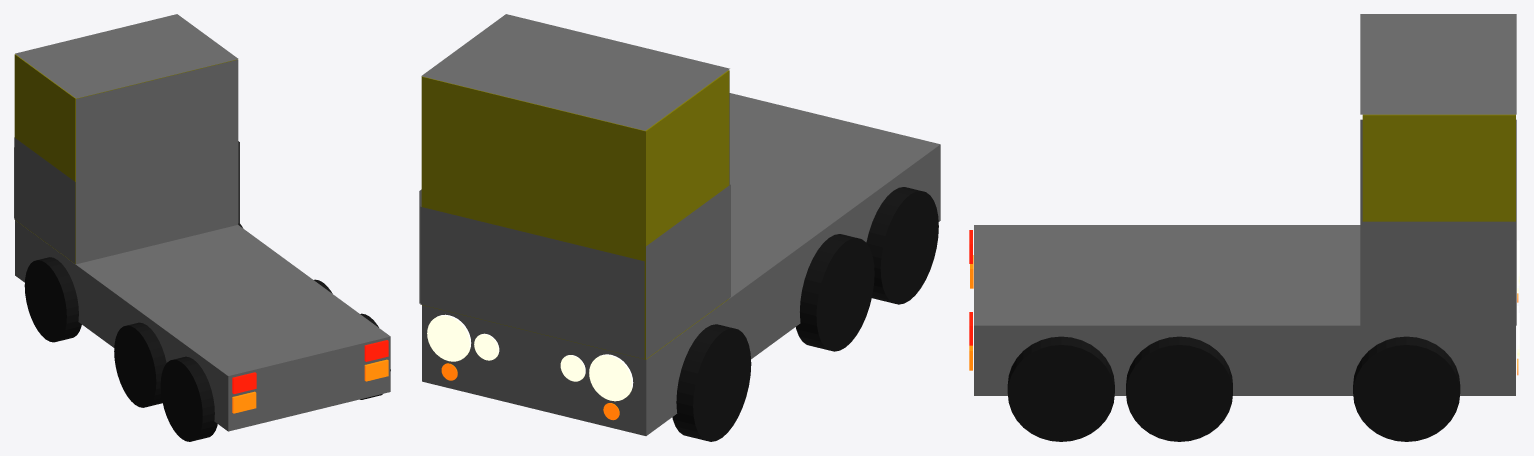
Rendered from new truck 1.fbx.
The picture shows the model from 3 angles, left to right: view 1: azimuth 30°, elevation 25°; view 2: azimuth 150°, elevation 25°; view 3: azimuth 270°, elevation 25°; orthographic projection. The views are drawn at different scales.
Visible parts, largest first — view 1: Cube.002, Plane.006, Plane.005, Cube.004, Plane.008, Circle.010, Circle.012, Circle.014, Plane.010, Plane.011, Plane.013, Plane.012; view 2: Cube.002, Cube.004, Plane.009, Plane.005, Plane.008, Circle.010, Circle.014, Circle.012, Cube.003, Circle.019, Circle.018, Circle.022 (+1 smaller); view 3: Cube.002, Cube.004, Plane.007, Plane.005, Circle.013, Circle.011, Circle.015.
Boxes of the visible parts, box(x1,y1,x2,y2) form: Cube.002: box(15, 220, 390, 431); Plane.006: box(76, 59, 238, 264); Plane.005: box(15, 14, 238, 98); Cube.004: box(14, 54, 237, 181); Plane.008: box(14, 137, 75, 263); Circle.010: box(24, 257, 81, 342); Circle.012: box(160, 356, 217, 441); Circle.014: box(114, 322, 166, 407); Plane.010: box(232, 372, 256, 393); Plane.011: box(364, 340, 388, 361); Plane.013: box(364, 359, 388, 381); Plane.012: box(232, 391, 256, 413); Cube.002: box(422, 93, 940, 435); Cube.004: box(421, 70, 729, 245); Plane.009: box(420, 206, 644, 358); Plane.005: box(421, 14, 729, 130); Plane.008: box(646, 184, 730, 358); Circle.010: box(672, 324, 751, 441); Circle.014: box(796, 234, 874, 351); Circle.012: box(866, 187, 938, 304); Cube.003: box(421, 190, 729, 359); Circle.019: box(589, 354, 633, 401); Circle.018: box(427, 314, 471, 361); Circle.022: box(474, 333, 499, 360); Cube.002: box(974, 225, 1515, 395); Cube.004: box(1362, 114, 1515, 221); Plane.007: box(1360, 221, 1516, 325); Plane.005: box(1360, 14, 1516, 114); Circle.013: box(1007, 336, 1114, 441); Circle.011: box(1353, 336, 1460, 441); Circle.015: box(1126, 336, 1232, 441).
Bounding box in the file's own units: 341 × 436 × 681.
